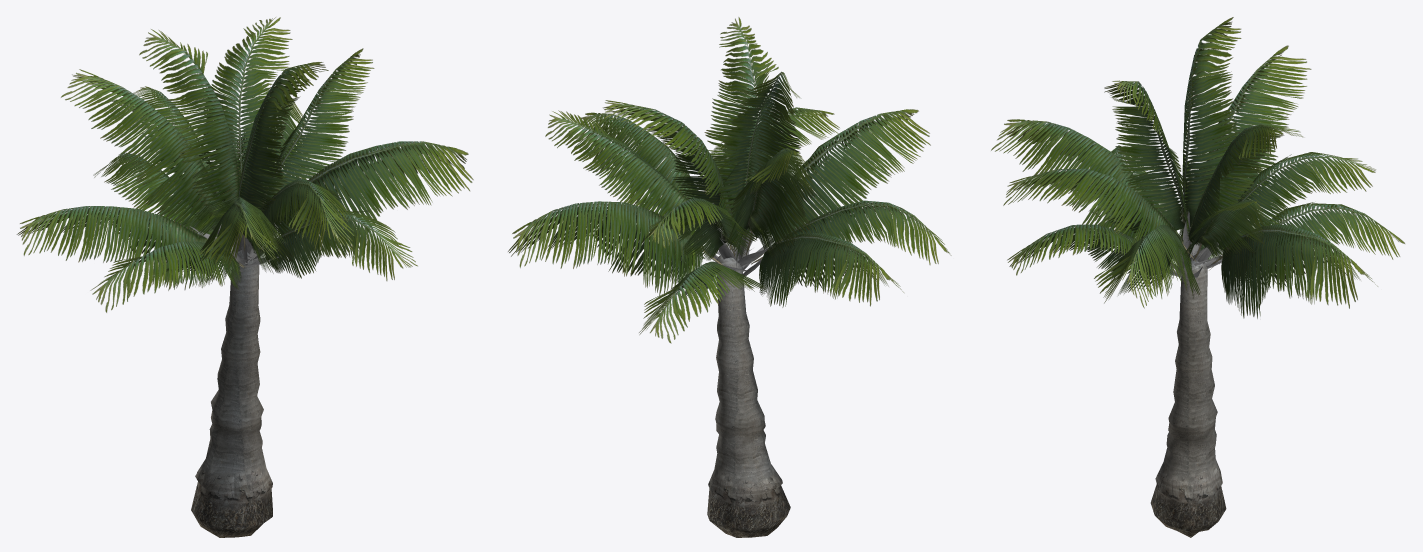
File: palm3.glb
3 views of the same model, side by side, from view 1: azimuth 30°, elevation 25°; view 2: azimuth 150°, elevation 25°; view 3: azimuth 270°, elevation 25° (orthographic). The views are drawn at different scales.
Visible parts, largest first — view 1: Object_3, Object_2; view 2: Object_3, Object_2; view 3: Object_3, Object_2.
Boxes of the visible parts, x1,y1,x2,y2 form: Object_3: (16,17,473,312); Object_2: (191,250,272,537); Object_3: (508,17,951,343); Object_2: (707,253,790,537); Object_3: (991,17,1404,318); Object_2: (1150,260,1226,537).
Size of the model in its own units: 9.4 by 11.24 by 8.89.
2 materials, 2 textured.
